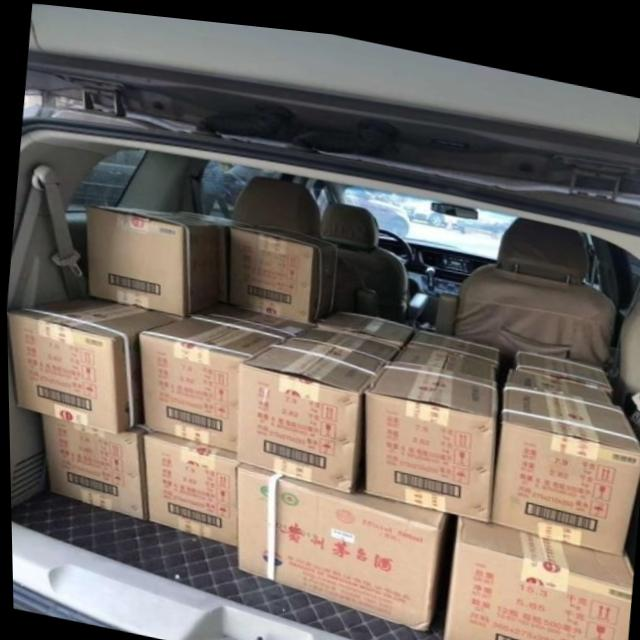box: (234, 456, 457, 622), (487, 354, 640, 541), (233, 318, 398, 485), (134, 297, 315, 447), (440, 506, 631, 640), (5, 294, 182, 432), (361, 337, 493, 512), (85, 205, 255, 313), (40, 412, 150, 518), (140, 426, 239, 542), (228, 217, 340, 316), (514, 338, 611, 379), (403, 318, 499, 358), (315, 301, 416, 338)
